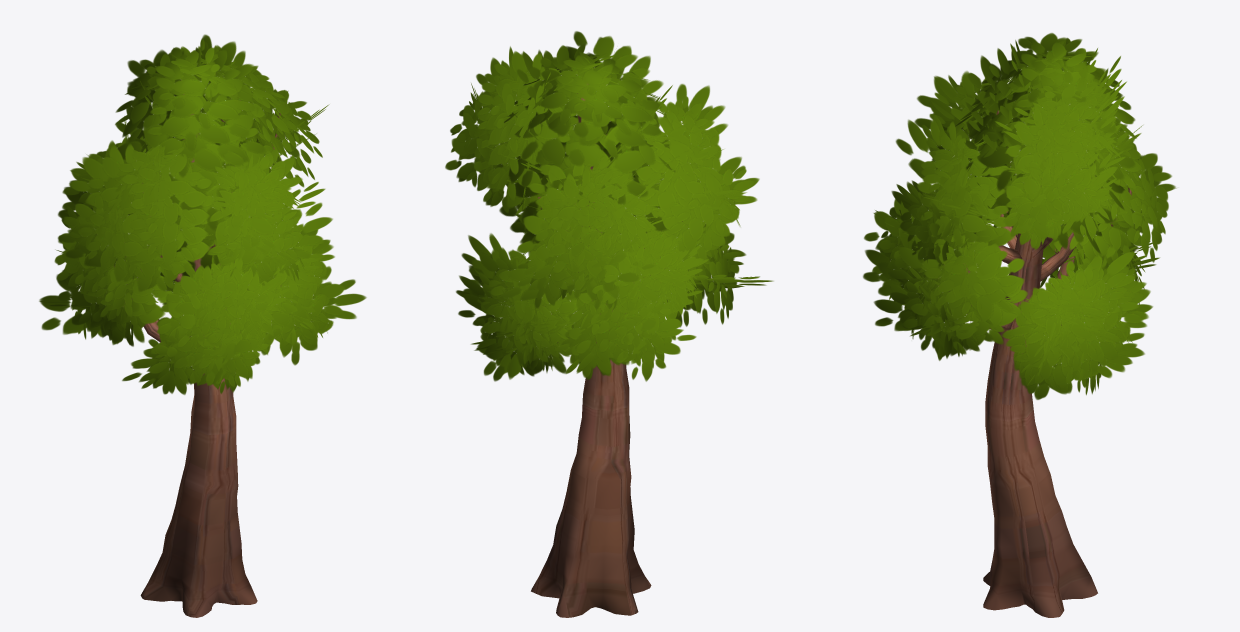
File: tree_oak2.glb
The picture shows the model from 3 angles, left to right: view 1: azimuth 30°, elevation 25°; view 2: azimuth 150°, elevation 25°; view 3: azimuth 270°, elevation 25°; orthographic projection. The views are drawn at different scales.
Parts seen in each view (by area): view 1: CommonTree_1; view 2: CommonTree_1; view 3: CommonTree_1.
Boxes of the visible parts, bbox=[...] form: CommonTree_1: bbox=[39, 34, 366, 617]; CommonTree_1: bbox=[445, 31, 773, 617]; CommonTree_1: bbox=[863, 33, 1176, 617].
Bounding box in the file's own units: 4.31 × 7.26 × 4.58.
Materials: 2 (2 with a texture image).
